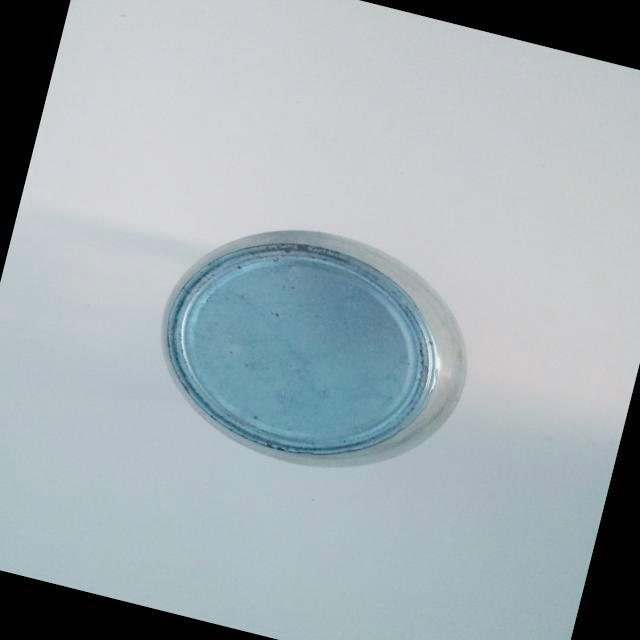glass: (130, 182, 504, 506)
